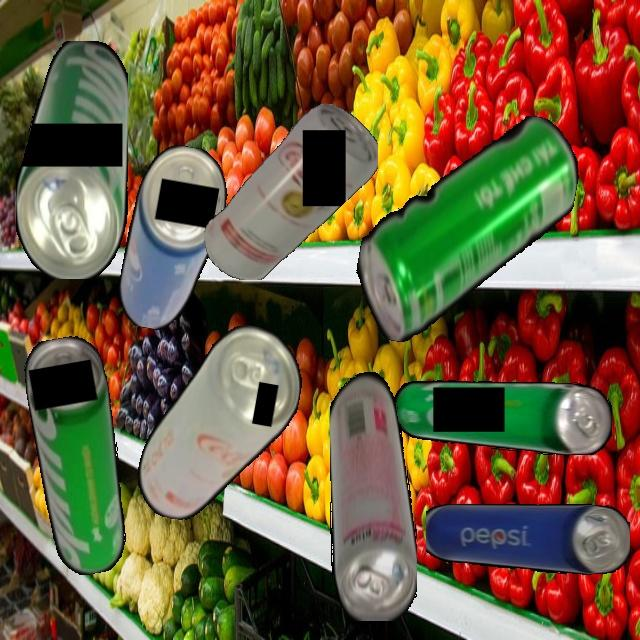debris: (346, 91, 587, 367), (131, 311, 310, 537), (203, 103, 378, 280), (19, 332, 139, 579), (15, 40, 128, 279), (113, 140, 234, 337), (329, 366, 417, 621), (393, 378, 612, 455), (425, 504, 630, 575)
